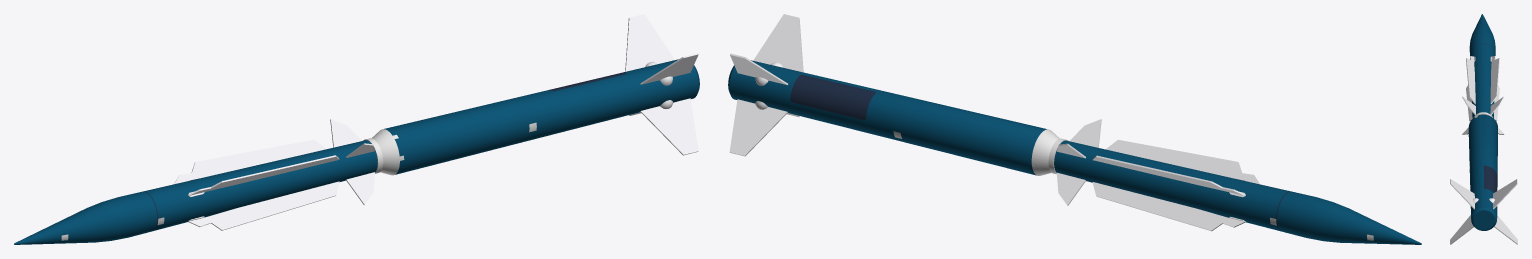
The model's file is verticalmi.glb.
The picture shows the model from 3 angles, left to right: view 1: azimuth 30°, elevation 25°; view 2: azimuth 150°, elevation 25°; view 3: azimuth 270°, elevation 25°; orthographic projection. The views are drawn at different scales.
Visible parts, largest first — view 1: Barrel_0, TopFin2_9, TopFin4_11, BottomFin2_2, BottomFin4_4, TopFin3_12, BottomFin3_3, MidFin2_8, MidFin4_6; view 2: Barrel_0, TopFin1_10, TopFin3_12, BottomFin1_1, BottomFin3_3, TopFin4_11, BottomFin4_4, MidFin1_5, MidFin3_7; view 3: Barrel_0, TopFin4_11, TopFin3_12, BottomFin3_3, BottomFin4_4, BottomFin2_2, BottomFin1_1, TopFin2_9, MidFin4_6, MidFin3_7, TopFin1_10.
Boxes of the visible parts, <box> form: Barrel_0: <box>14,59,699,244</box>; TopFin2_9: <box>188,181,339,230</box>; TopFin4_11: <box>174,139,325,184</box>; BottomFin2_2: <box>640,98,698,155</box>; BottomFin4_4: <box>625,14,674,71</box>; TopFin3_12: <box>188,155,339,196</box>; BottomFin3_3: <box>640,53,698,85</box>; MidFin2_8: <box>346,172,374,204</box>; MidFin4_6: <box>330,119,361,147</box>; Barrel_0: <box>728,60,1421,244</box>; TopFin1_10: <box>1092,182,1245,231</box>; TopFin3_12: <box>1106,139,1259,184</box>; BottomFin1_1: <box>729,99,787,156</box>; BottomFin3_3: <box>753,14,803,72</box>; TopFin4_11: <box>1093,155,1245,197</box>; BottomFin4_4: <box>730,53,787,85</box>; MidFin1_5: <box>1056,172,1085,205</box>; MidFin3_7: <box>1069,119,1101,147</box>; Barrel_0: <box>1468,14,1497,230</box>; TopFin4_11: <box>1490,56,1499,104</box>; TopFin3_12: <box>1466,56,1475,104</box>; BottomFin3_3: <box>1450,179,1478,209</box>; BottomFin4_4: <box>1489,179,1517,209</box>; BottomFin2_2: <box>1450,215,1473,244</box>; BottomFin1_1: <box>1494,215,1517,244</box>; TopFin2_9: <box>1466,85,1472,121</box>; MidFin4_6: <box>1490,96,1504,114</box>; MidFin3_7: <box>1462,96,1475,114</box>; TopFin1_10: <box>1494,86,1499,121</box>.
Bounding box in the file's own units: 89.74 × 12.49 × 12.53.
